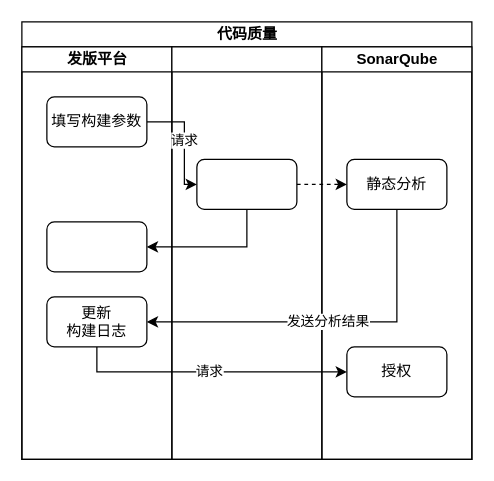
Some shapes in this 494 by 481 pixel diagram are drawn without their labels. The shapes that lost their labels are listed below. From the top down, each one's box as (x1, y1, x2, y2) in pixels, then its label:
(196, 158, 297, 209): 执行构建
(46, 221, 147, 272): 构建完成
(171, 46, 322, 459): Jenkins
